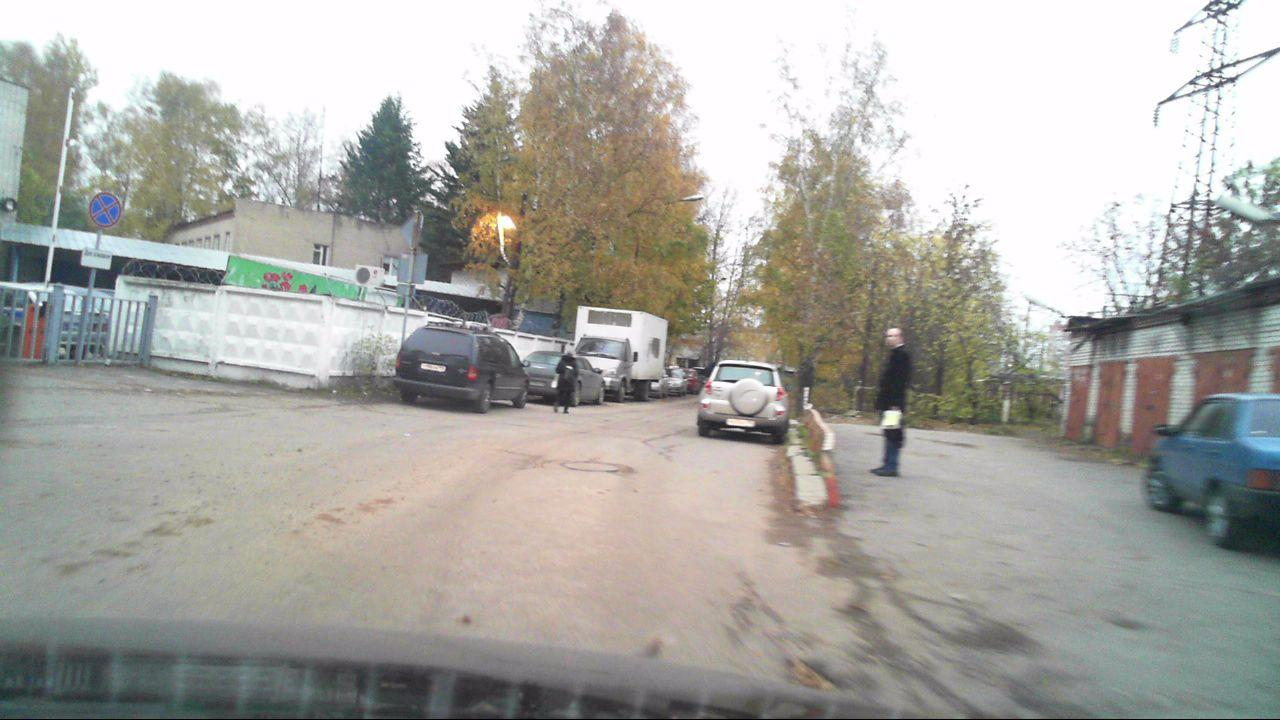road_sign: (88, 190, 124, 230)
